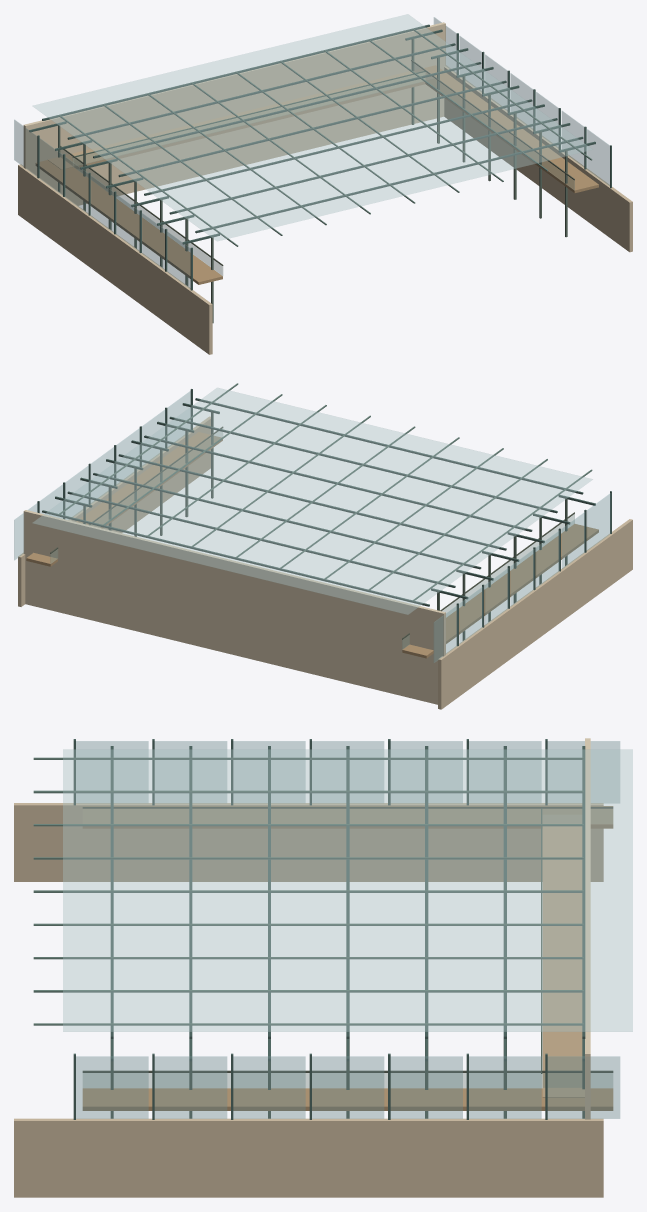
Rendered from food-mall.glb.
3 renders of one model, top to bottom at view 1: azimuth 30°, elevation 25°; view 2: azimuth 150°, elevation 25°; view 3: azimuth 270°, elevation 25°, orthographic. The views are drawn at different scales.
Visible parts, largest first — view 1: Skylight glass, Back wall, Side wall, Side wall.001, Rear gallery, Upper gallery, Upper gallery.001, Rear balustrade, Glass balustrade, Glass balustrade.001, Skylight crossbeam.001, Skylight crossbeam.002 (+19 smaller); view 2: Skylight glass, Back wall, Side wall, Upper gallery, Side wall.001, Upper gallery.001, Skylight crossbeam, Glass balustrade, Skylight crossbeam.003, Skylight crossbeam.004, Skylight crossbeam.005, Skylight crossbeam.006 (+17 smaller); view 3: Skylight glass, Side wall.001, Side wall, Upper gallery.001, Rear gallery, Upper gallery, Glass balustrade, Glass balustrade.001, Clerestory window.008, Clerestory window.011, Clerestory window.013, Clerestory window.009 (+20 smaller).
Part boxes in pixels (box(x1,y1,x2,y2)): Skylight glass: box(33, 14, 592, 241); Back wall: box(23, 22, 445, 205); Side wall: box(18, 164, 212, 354); Side wall.001: box(444, 65, 632, 252); Rear gallery: box(48, 68, 436, 169); Upper gallery: box(35, 160, 222, 284); Upper gallery.001: box(424, 65, 598, 193); Rear balustrade: box(73, 72, 424, 166); Glass balustrade: box(60, 150, 222, 275); Glass balustrade.001: box(412, 63, 574, 190); Skylight crossbeam.001: box(67, 43, 455, 139); Skylight crossbeam.002: box(93, 62, 481, 158); Skylight glass: box(33, 388, 592, 614); Back wall: box(23, 510, 445, 704); Side wall: box(438, 519, 632, 709); Upper gallery: box(402, 524, 598, 658); Side wall.001: box(18, 416, 210, 606); Upper gallery.001: box(26, 432, 222, 566); Skylight crossbeam: box(42, 510, 429, 606); Glass balustrade: box(402, 514, 574, 649); Skylight crossbeam.003: box(118, 454, 506, 550); Skylight crossbeam.004: box(144, 435, 532, 531); Skylight crossbeam.005: box(169, 416, 557, 513); Skylight crossbeam.006: box(195, 398, 583, 494); Skylight glass: box(63, 749, 632, 1031); Side wall.001: box(14, 1118, 603, 1197); Side wall: box(14, 803, 603, 881); Upper gallery.001: box(82, 1088, 613, 1110); Rear gallery: box(542, 815, 584, 1097); Upper gallery: box(82, 806, 613, 828); Glass balustrade: box(83, 809, 612, 823); Glass balustrade.001: box(83, 1073, 612, 1087); Clerestory window.008: box(469, 1056, 541, 1118); Clerestory window.011: box(233, 1056, 305, 1118); Clerestory window.013: box(76, 1056, 148, 1118); Clerestory window.009: box(391, 1056, 462, 1118).
Size of the model in its own units: 38.3 by 8.31 by 31.5.
